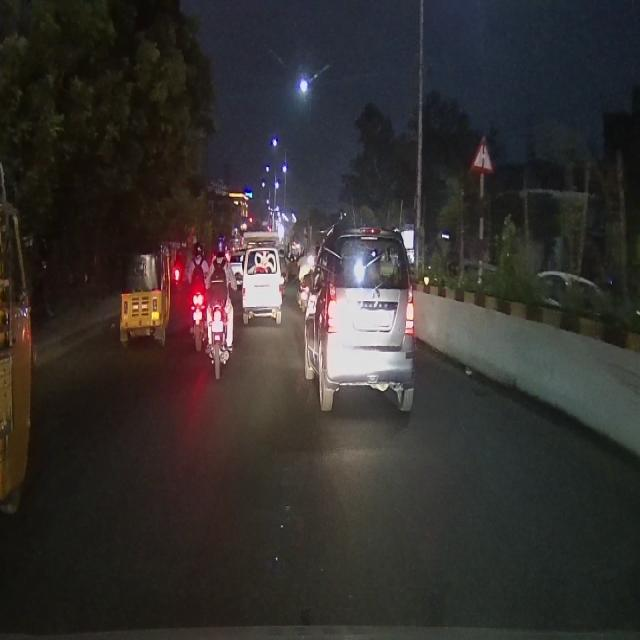auto ahead at: (118, 243, 174, 347)
